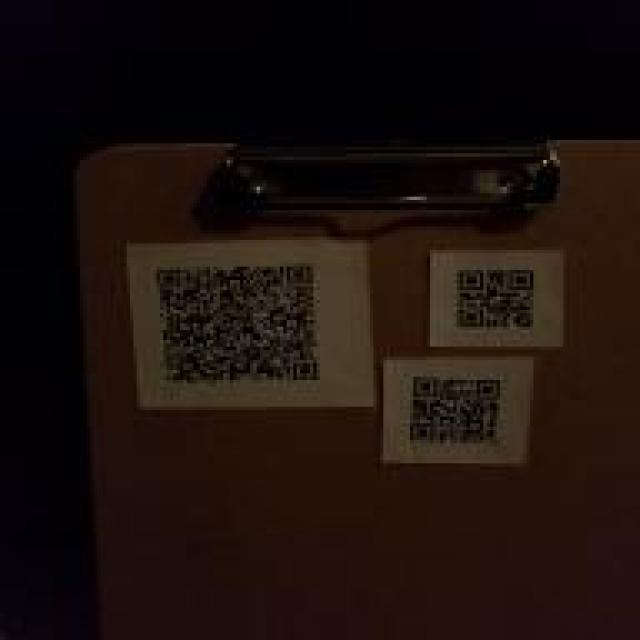QR_CODE: (147, 250, 328, 387), (400, 367, 513, 450), (443, 257, 545, 340)
